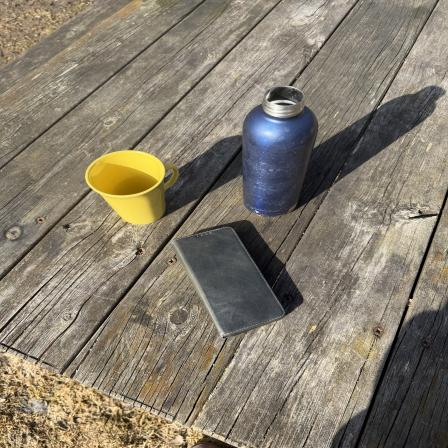blue_bottle: (239, 86, 315, 216)
phone: (171, 228, 290, 340)
yellow_cup: (85, 148, 183, 228)
